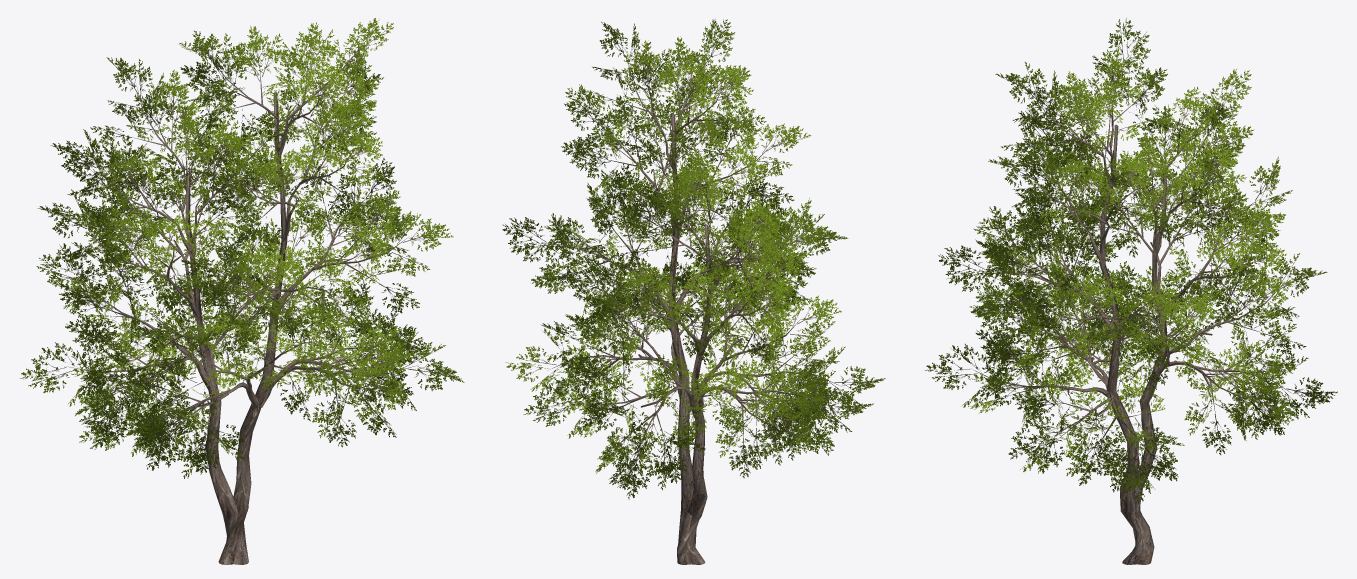
File: elm_ds.fbx
3 renders of one model, left to right at view 1: azimuth 30°, elevation 25°; view 2: azimuth 150°, elevation 25°; view 3: azimuth 270°, elevation 25°, orthographic. The views are drawn at different scales.
Parts seen in each view (by area): view 1: Tree_1, Tree_0; view 2: Tree_1, Tree_0; view 3: Tree_1, Tree_0.
Part boxes in pixels (bbox=[...]): Tree_1: bbox=[20, 18, 464, 478]; Tree_0: bbox=[64, 51, 417, 564]; Tree_1: bbox=[502, 19, 885, 499]; Tree_0: bbox=[538, 51, 841, 564]; Tree_1: bbox=[924, 18, 1337, 503]; Tree_0: bbox=[974, 54, 1290, 564].
Size of the model in its own units: 20.02 by 27.7 by 20.34.
2 materials, 2 textured.
